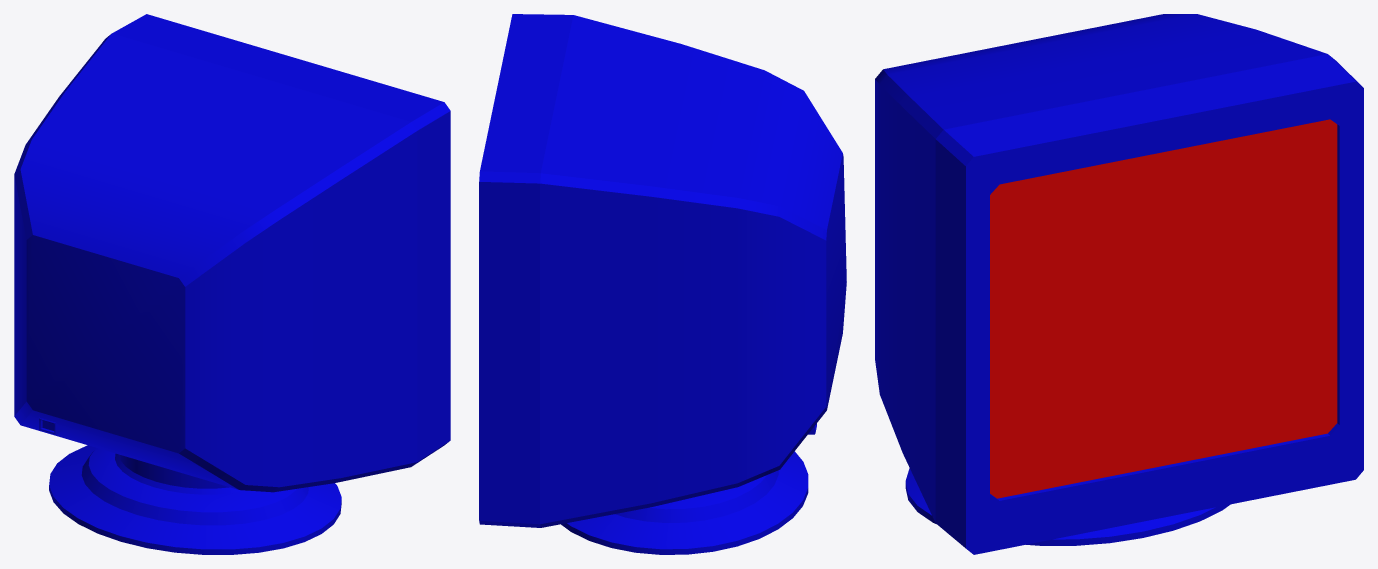
Rendered from ConsoleFixed.fbx.
The picture shows the model from 3 angles, left to right: view 1: azimuth 30°, elevation 25°; view 2: azimuth 150°, elevation 25°; view 3: azimuth 270°, elevation 25°; orthographic projection. The views are drawn at different scales.
Visible parts, largest first — view 1: Monitor; view 2: Monitor; view 3: Monitor.
Part boxes in pixels (box(x1,y1,x2,y2)): Monitor: box(14, 14, 450, 554); Monitor: box(479, 14, 846, 554); Monitor: box(875, 14, 1363, 554).
Size of the model in its own units: 45.33 by 45.07 by 45.45.
